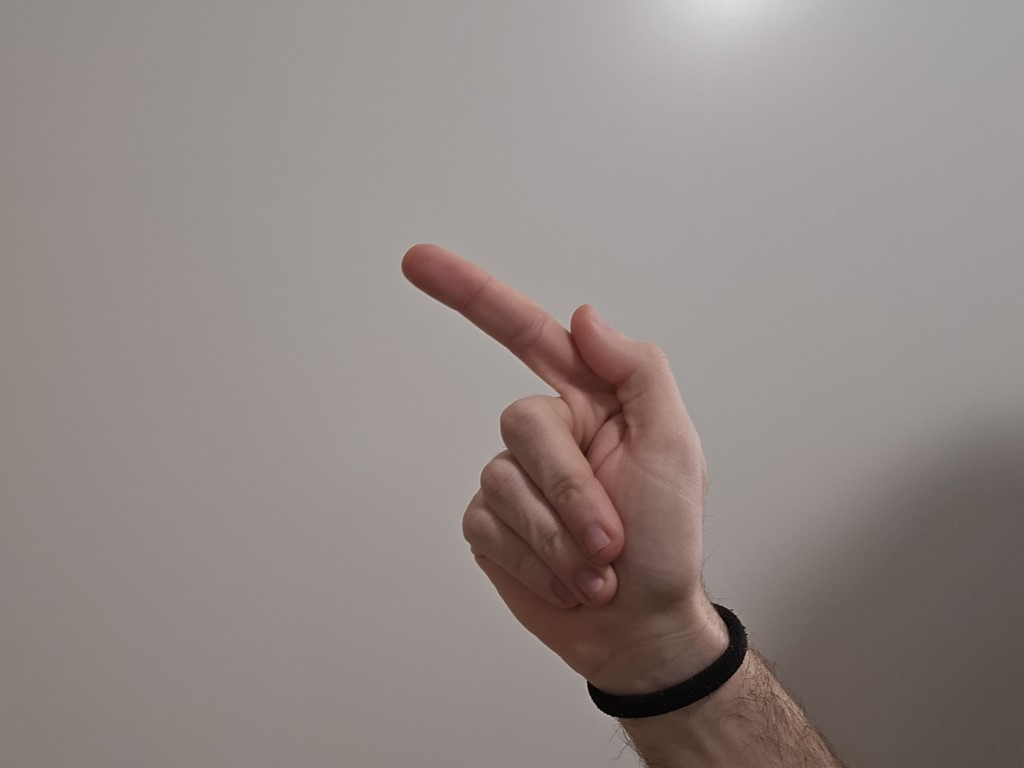g: (374, 209, 718, 659)
